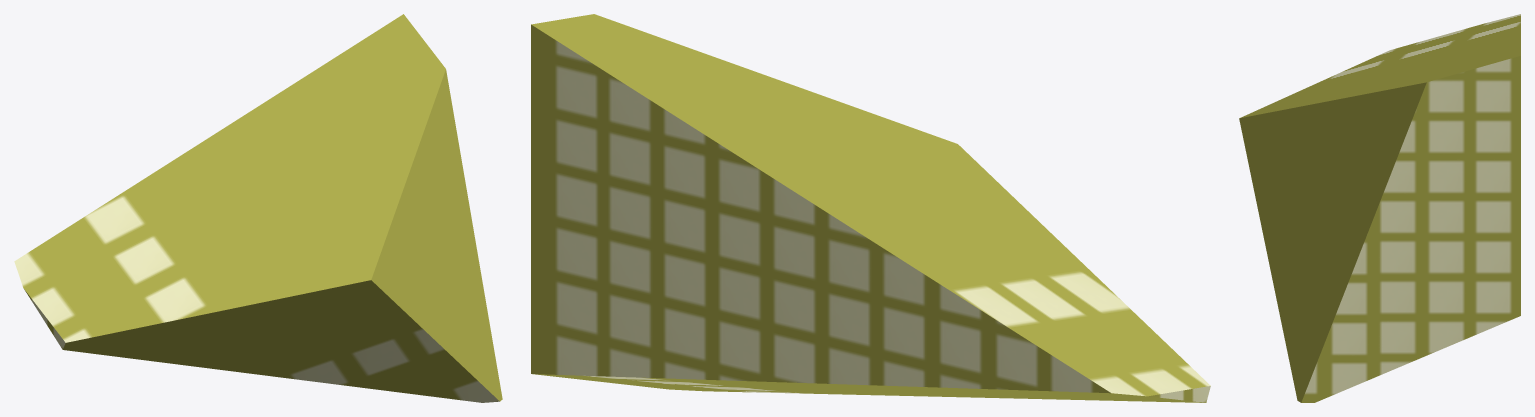
File: r2Shard4.fbx
3 renders of one model, left to right at view 1: azimuth 30°, elevation 25°; view 2: azimuth 150°, elevation 25°; view 3: azimuth 270°, elevation 25°, orthographic. The views are drawn at different scales.
Visible parts, largest first — view 1: shard44; view 2: shard44; view 3: shard44.
Part boxes in pixels (x1,y1,x2,y2): shard44: (14, 14, 502, 402); shard44: (531, 14, 1210, 402); shard44: (1239, 14, 1520, 402).
Bounding box in the file's own units: 0.1923 × 0.1448 × 0.1065.
1 material, 1 textured.
